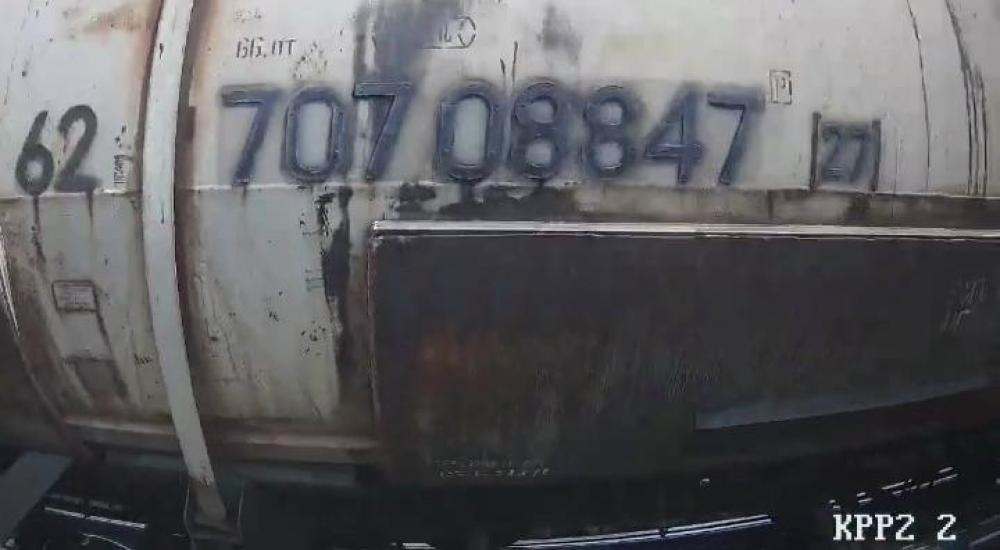Wagon-number: (215, 77, 766, 189)
